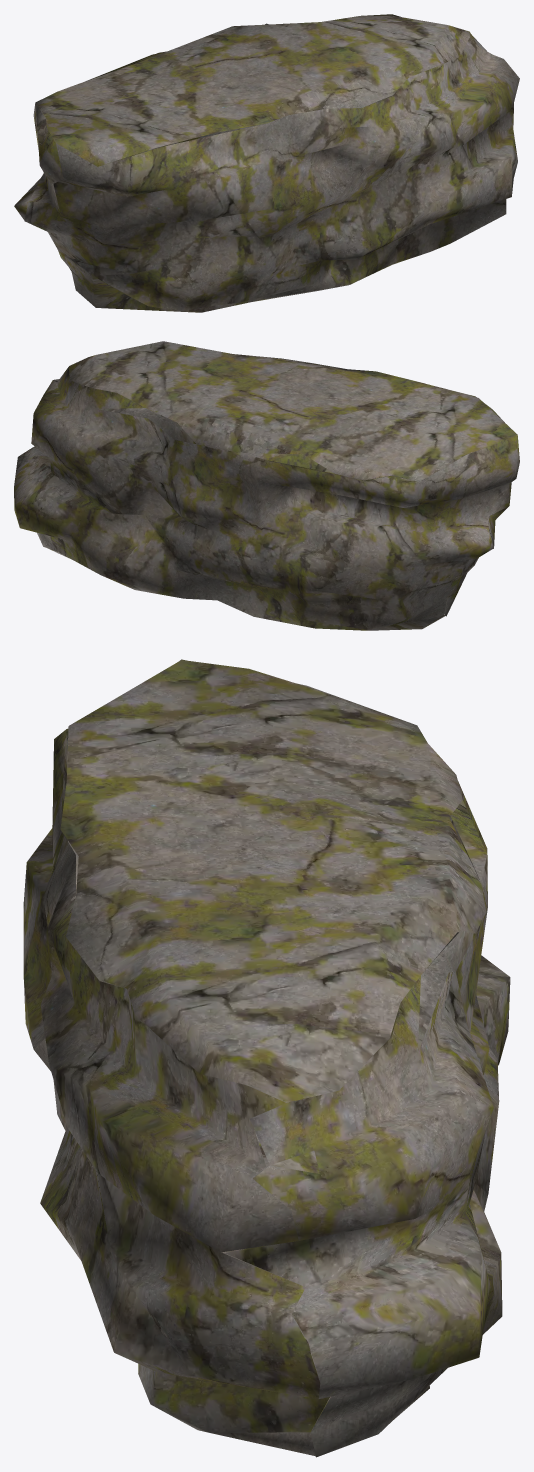
3 renders of one model, top to bottom at view 1: azimuth 30°, elevation 25°; view 2: azimuth 150°, elevation 25°; view 3: azimuth 270°, elevation 25°, orthographic. The views are drawn at different scales.
Visible parts, largest first — view 1: Cube.057; view 2: Cube.057; view 3: Cube.057.
Part boxes in pixels (x1,y1,x2,y2): Cube.057: (14,14,519,312); Cube.057: (14,341,519,630); Cube.057: (23,659,510,1457).
Bounding box in the file's own units: 11.24 × 4.35 × 4.99.
Materials: 1 (1 with a texture image).
